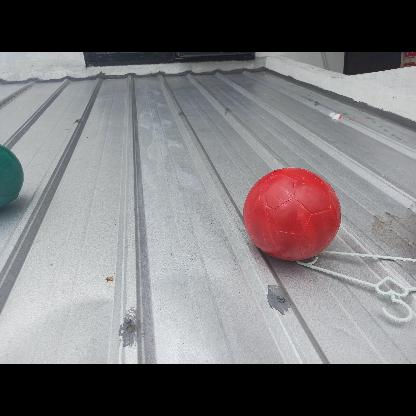red_ball: (243, 166, 337, 260)
